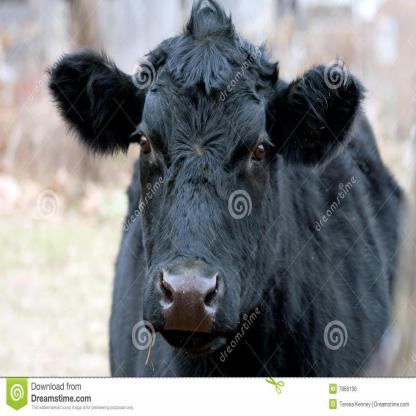cow: (47, 0, 407, 378)
